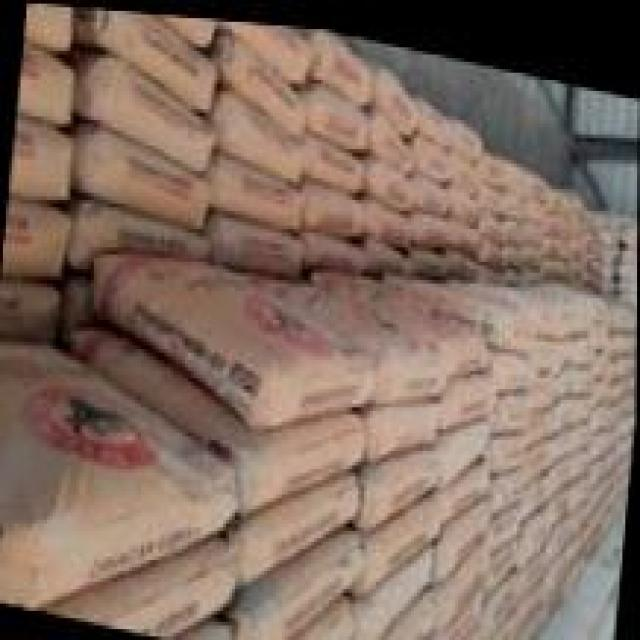gunny_bag: (0, 335, 229, 604), (75, 315, 366, 510), (84, 249, 367, 430), (241, 262, 445, 392), (44, 551, 236, 636), (317, 266, 481, 362), (239, 522, 360, 640), (94, 52, 210, 174), (88, 123, 208, 229), (225, 476, 356, 573), (84, 7, 212, 106), (214, 28, 305, 130), (213, 85, 302, 185), (204, 153, 299, 231), (360, 546, 431, 640), (214, 208, 301, 271), (363, 451, 438, 524), (8, 119, 63, 203), (227, 17, 305, 74), (432, 495, 487, 573), (365, 395, 433, 458), (15, 46, 69, 125), (1, 203, 61, 272), (315, 25, 370, 97), (0, 279, 57, 342), (304, 179, 361, 235), (437, 363, 494, 418), (302, 129, 357, 185), (311, 82, 362, 142), (375, 59, 419, 127), (302, 221, 363, 268), (437, 420, 480, 485), (363, 147, 410, 204), (368, 107, 412, 166), (362, 190, 413, 240), (414, 85, 455, 135), (22, 2, 63, 50), (288, 610, 347, 640), (367, 228, 407, 269), (446, 140, 480, 186), (415, 127, 449, 172), (385, 605, 428, 640), (490, 390, 531, 423), (414, 165, 445, 205), (413, 205, 453, 236), (492, 424, 523, 463), (411, 240, 445, 273), (495, 348, 533, 377), (450, 176, 478, 215)
